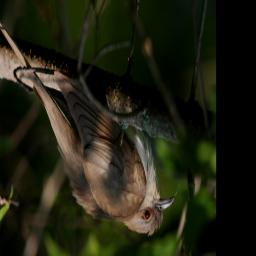Cuckoo: (0, 0, 176, 238)
